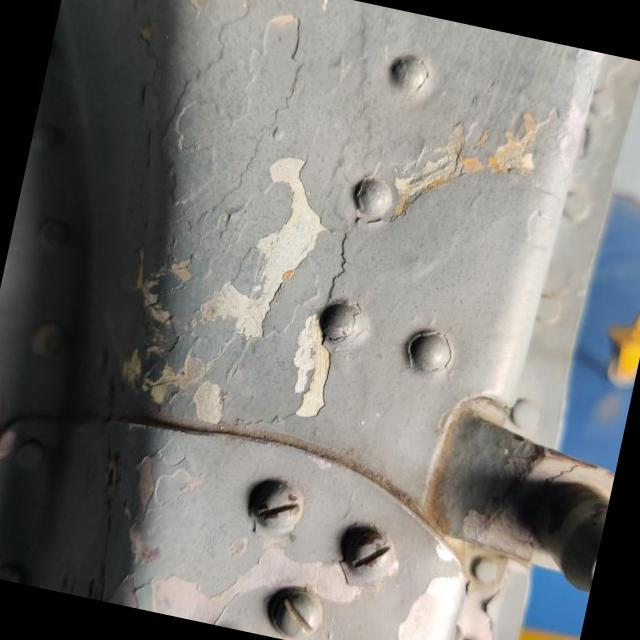Paint-off: (142, 159, 333, 425), (352, 110, 541, 223)
